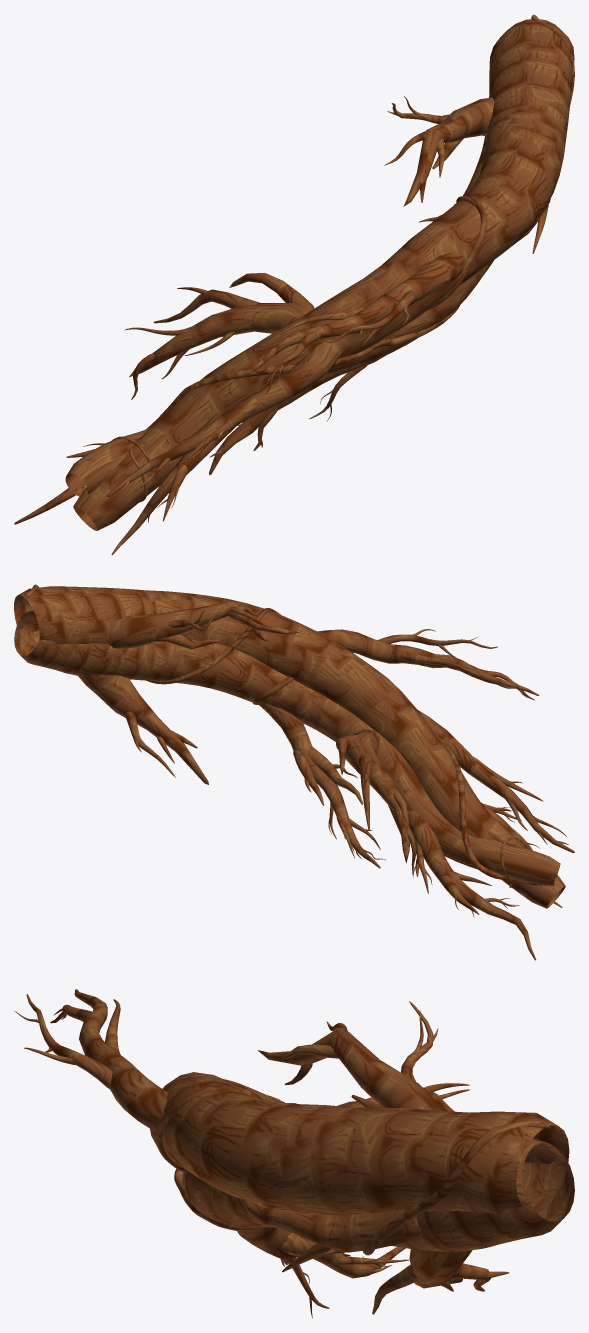
File: VEG_TREE_Big_Straw.FBX
3 renders of one model, top to bottom at view 1: azimuth 30°, elevation 25°; view 2: azimuth 150°, elevation 25°; view 3: azimuth 270°, elevation 25°, orthographic. The views are drawn at different scales.
Visible parts, largest first — view 1: VEG_TREE_Big_Straw; view 2: VEG_TREE_Big_Straw; view 3: VEG_TREE_Big_Straw.
Part boxes in pixels (left/top/right/bottom): VEG_TREE_Big_Straw: left=14, top=14, right=574, bottom=555; VEG_TREE_Big_Straw: left=14, top=584, right=574, bottom=960; VEG_TREE_Big_Straw: left=14, top=989, right=574, bottom=1318.
Bounding box in the file's own units: 9168 × 5002 × 5263.
1 material, 1 textured.
